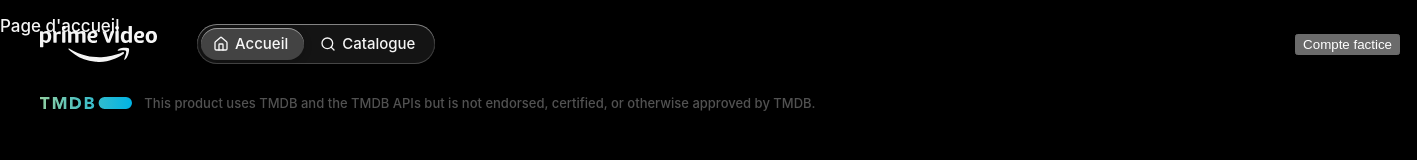
Test: coque de l'application (spec 11) › ouvre le catalogue par son onglet, qui devient l'onglet courant
Click the link "Catalogue": (368, 44) [320,34,415,53]
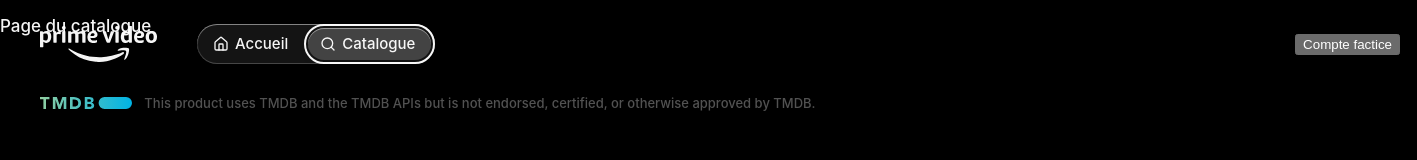
Check: the text "Page du catalogue" is shown, box [0,16,151,36]
